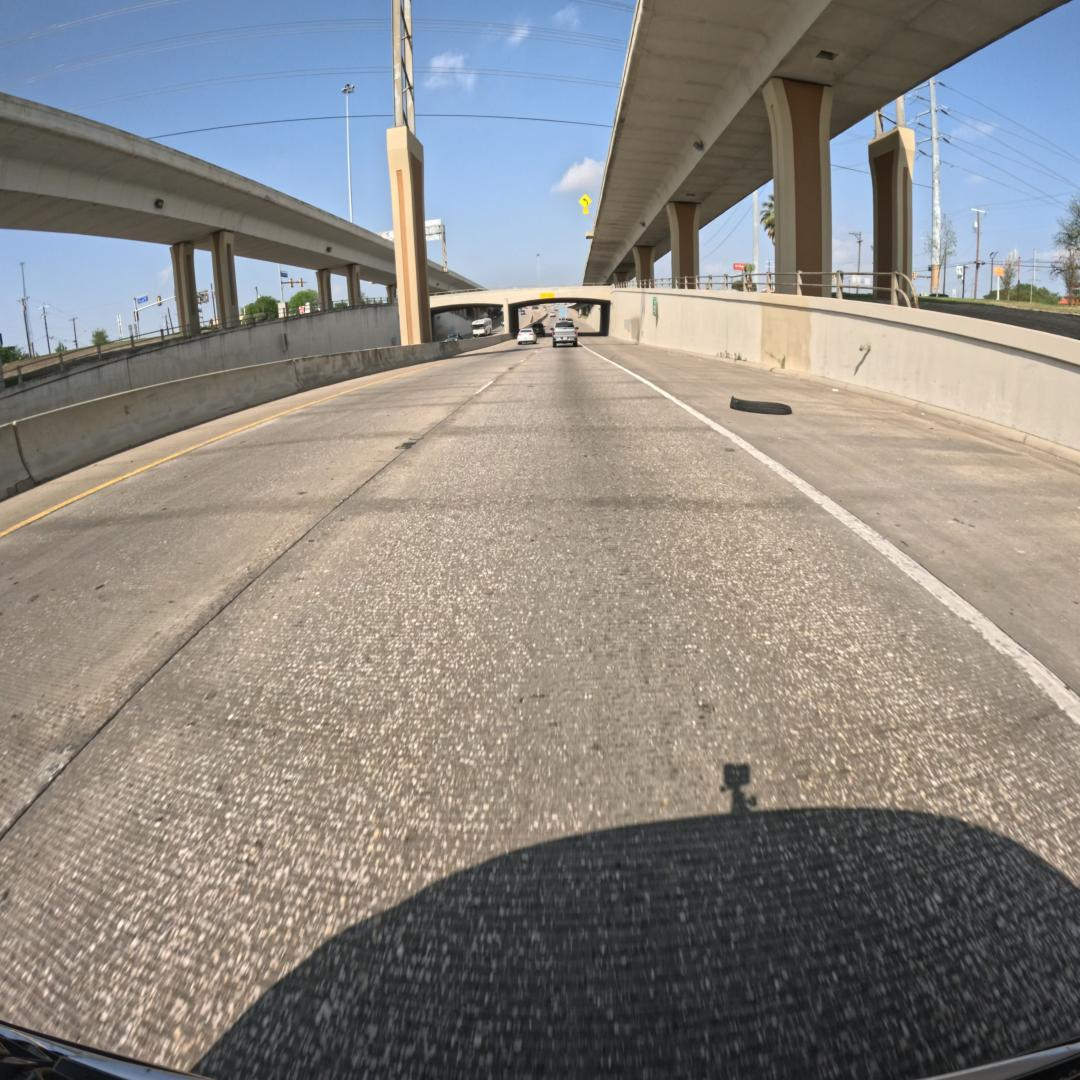lane0: (0, 347, 1080, 1077)
lane1: (0, 350, 524, 837)
